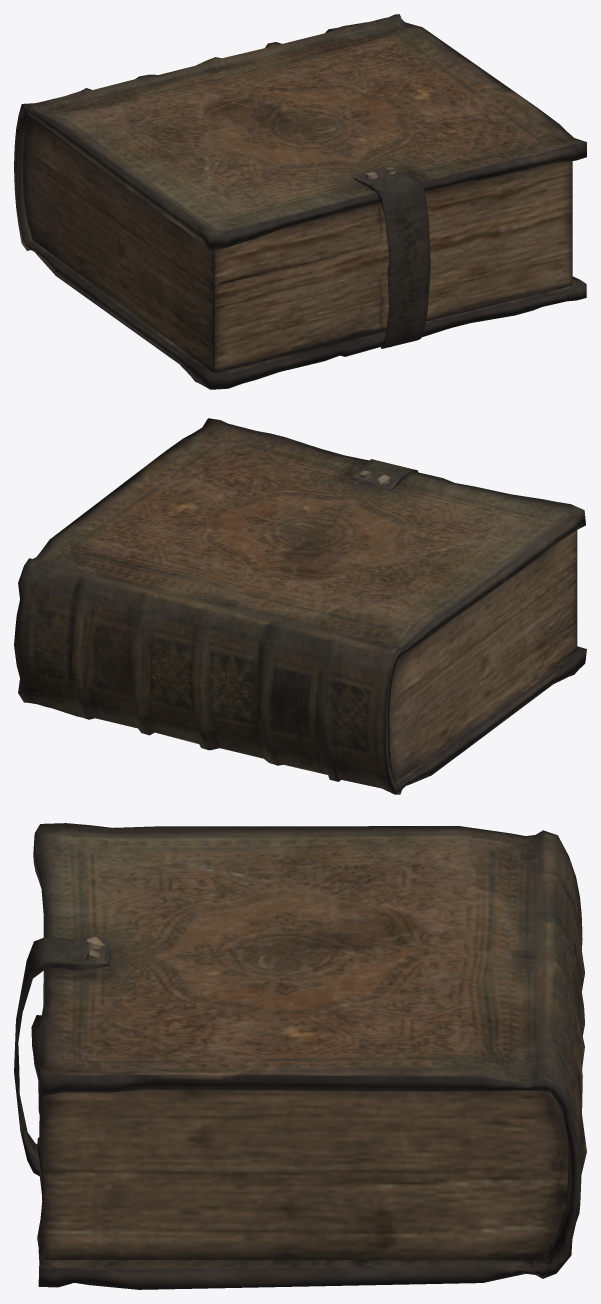
File: SM_Book02.fbx
The picture shows the model from 3 angles, top to bottom: view 1: azimuth 30°, elevation 25°; view 2: azimuth 150°, elevation 25°; view 3: azimuth 270°, elevation 25°; orthographic projection. The views are drawn at different scales.
Parts seen in each view (by area): view 1: SM_Book02_LOD0; view 2: SM_Book02_LOD0; view 3: SM_Book02_LOD0.
Boxes of the visible parts, box(x1,y1,x2,y2) form: SM_Book02_LOD0: box(14, 14, 586, 389); SM_Book02_LOD0: box(14, 418, 586, 794); SM_Book02_LOD0: box(14, 823, 586, 1289).
Size of the model in its own units: 19.05 by 18.19 by 7.74.
